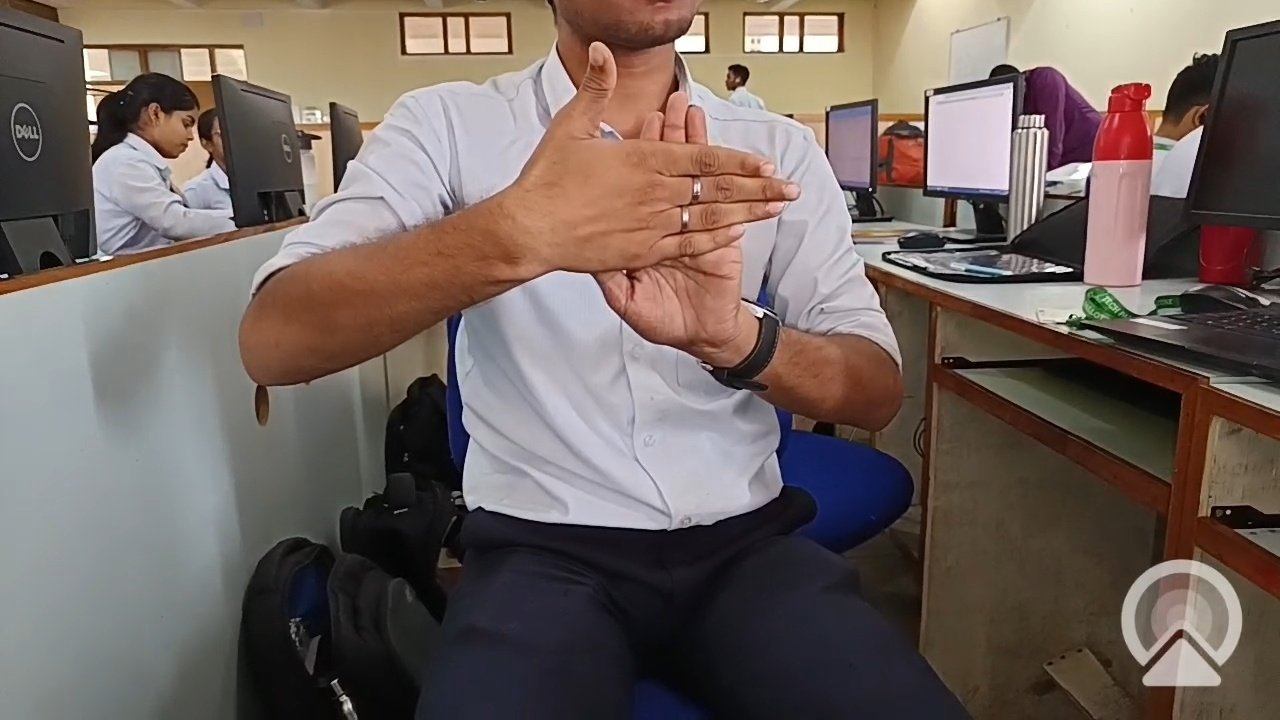W: (408, 13, 857, 413)
